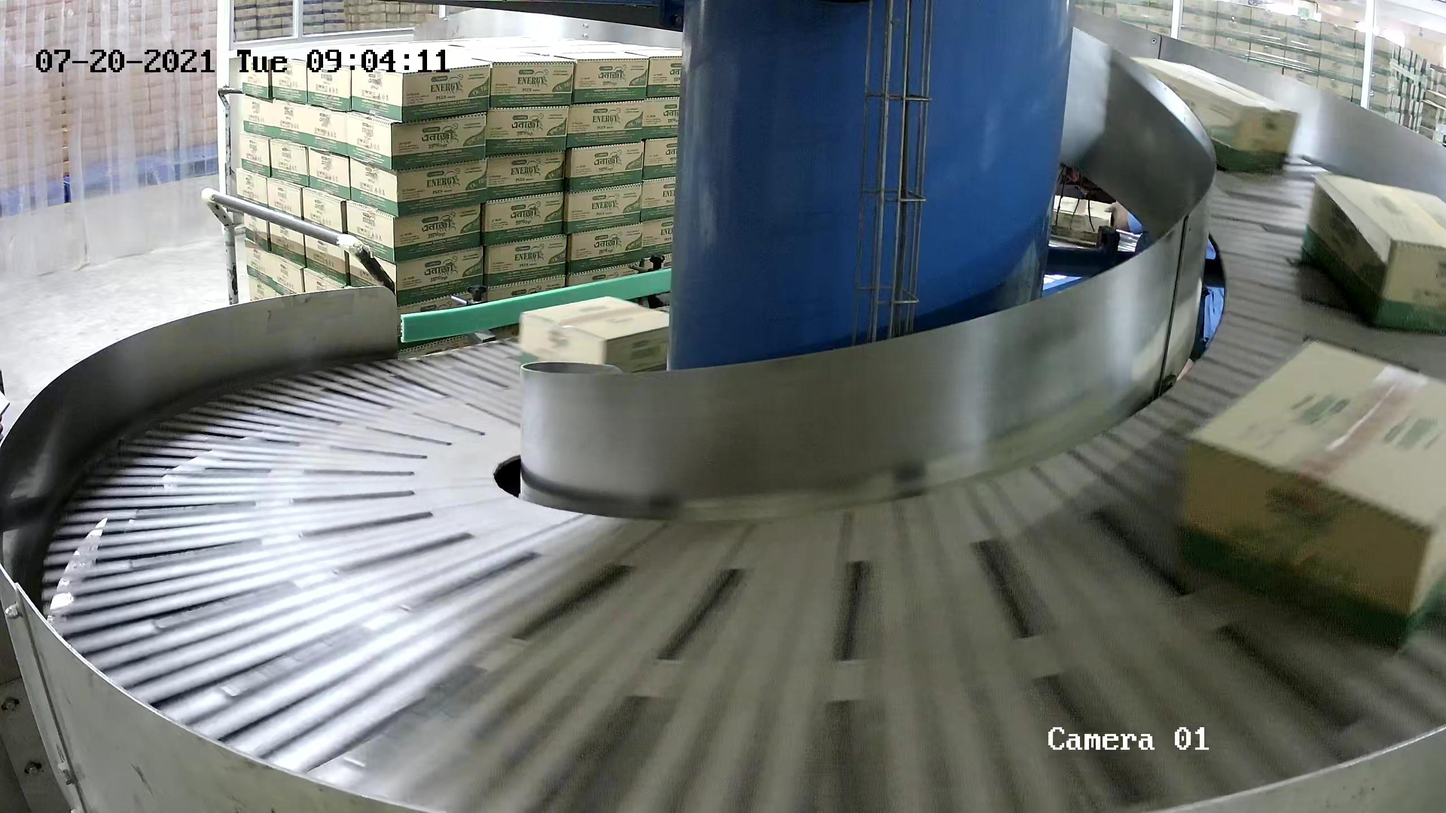Box: (1176, 337, 1446, 656), (1300, 173, 1446, 332), (1124, 55, 1300, 172), (518, 294, 670, 372)
